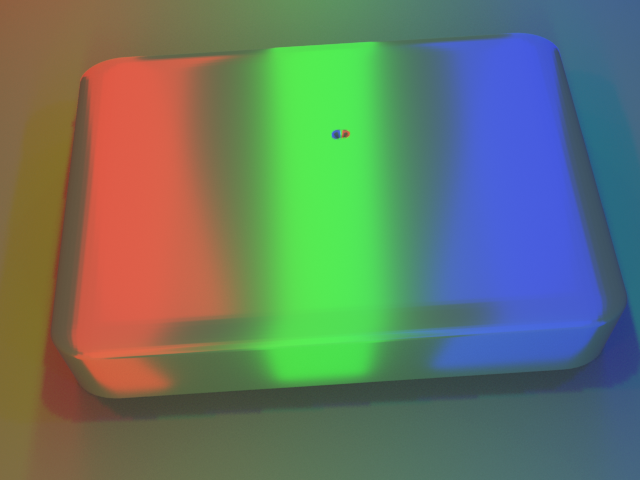dent: (320, 106, 362, 146)
